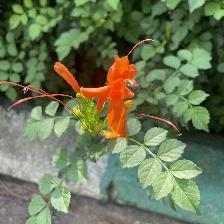honeysuckle: (82, 51, 146, 143)
